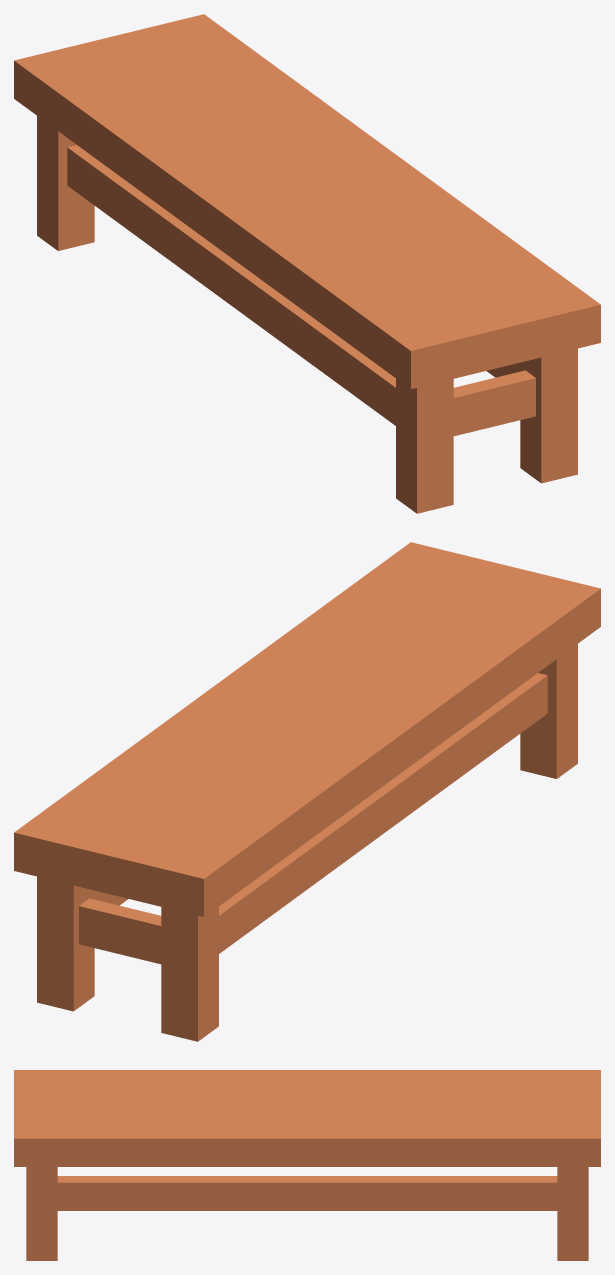
The model's file is stallBench.glb.
3 views of the same model, one above another, from view 1: azimuth 30°, elevation 25°; view 2: azimuth 150°, elevation 25°; view 3: azimuth 270°, elevation 25° (orthographic). The views are drawn at different scales.
Visible parts, largest first — view 1: stallBench; view 2: stallBench; view 3: stallBench.
Part boxes in pixels (<box>): stallBench: <box>14,14,600,513</box>; stallBench: <box>14,542,600,1041</box>; stallBench: <box>14,1070,600,1260</box>.
Size of the model in its own units: 0.52 by 0.451 by 1.88.
